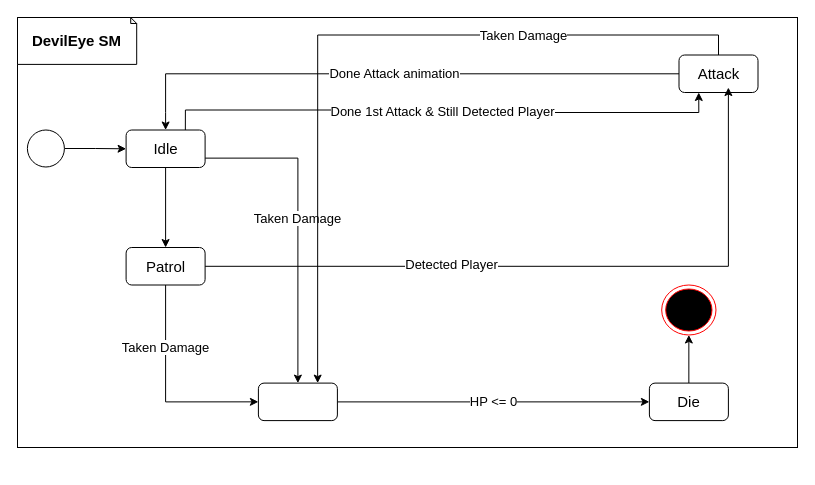
Some shapes in this 815 by 485 pixel diagram are drawn without their labels. The shapes that lost their labels are listed below. From the top down, each one's centre as x and y in pixels, then its label:
At [45,148]: "Start".
At [688,309]: "End".
At [297,401]: "GetHit".
